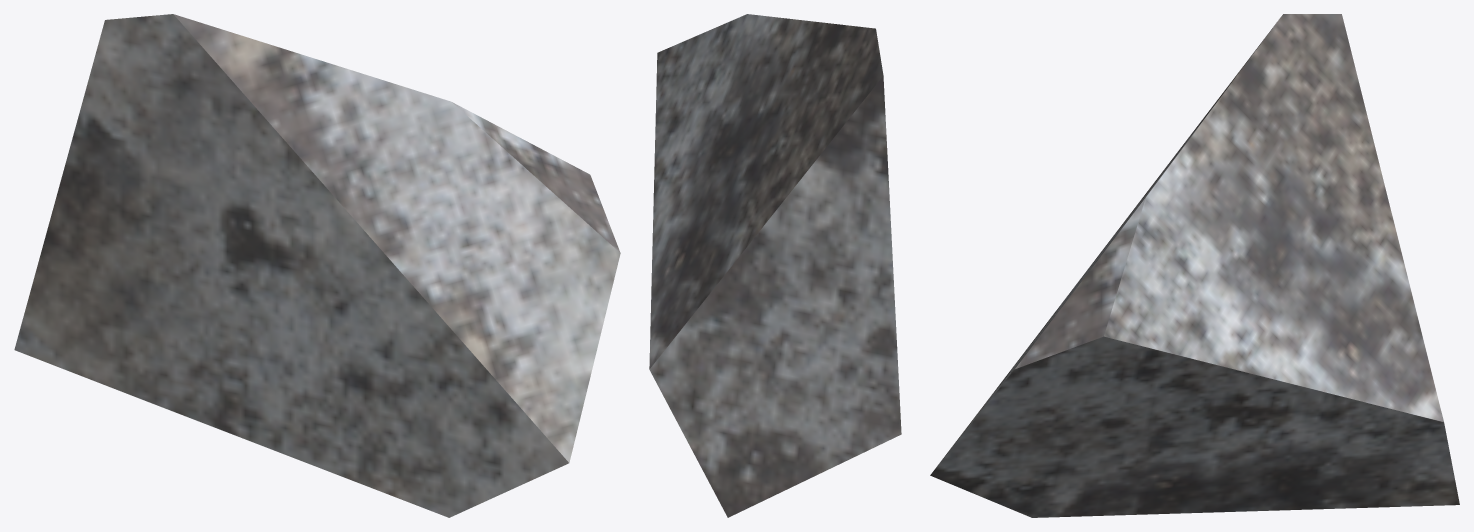
File: Asteroid_Large_001_02_012_03_009.fbx
3 renders of one model, left to right at view 1: azimuth 30°, elevation 25°; view 2: azimuth 150°, elevation 25°; view 3: azimuth 270°, elevation 25°, orthographic. The views are drawn at different scales.
Visible parts, largest first — view 1: Asteroid_Large_001_02_012_03_009; view 2: Asteroid_Large_001_02_012_03_009; view 3: Asteroid_Large_001_02_012_03_009.
Part boxes in pixels (x1,y1,x2,y2): Asteroid_Large_001_02_012_03_009: [14, 14, 620, 517]; Asteroid_Large_001_02_012_03_009: [649, 14, 901, 517]; Asteroid_Large_001_02_012_03_009: [930, 14, 1459, 517].
Size of the model in its own units: 4.31 by 4.65 by 4.86.
